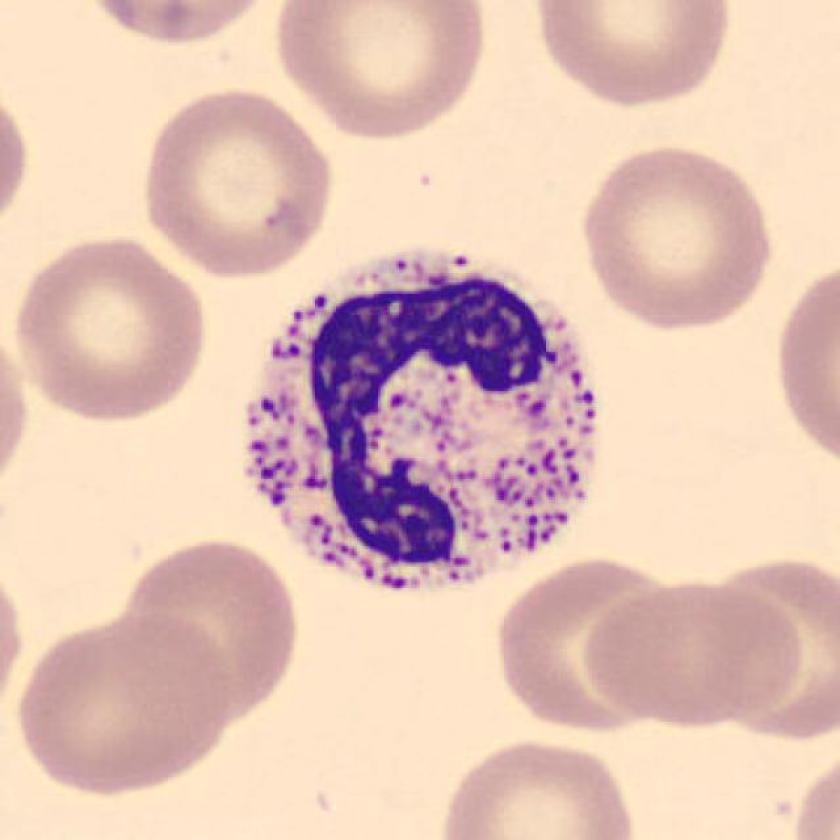neutrophil: (247, 253, 595, 596)
